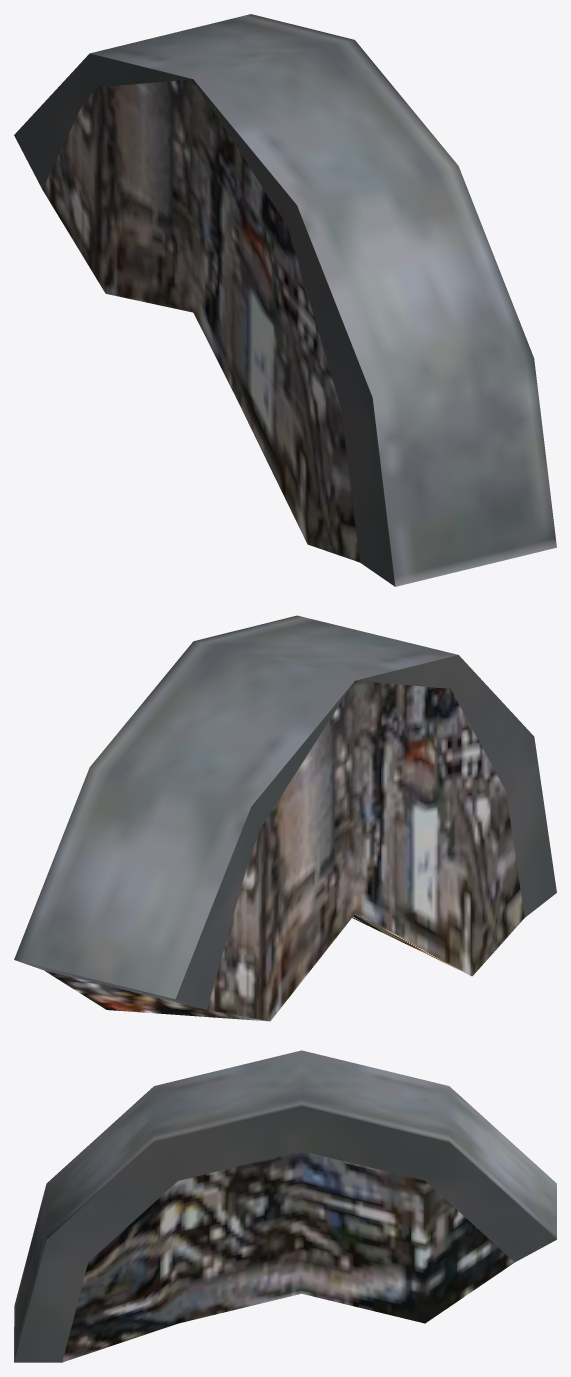
File: tie_fighter_debris_f_l0.fbx
3 renders of one model, top to bottom at view 1: azimuth 30°, elevation 25°; view 2: azimuth 150°, elevation 25°; view 3: azimuth 270°, elevation 25°, orthographic. The views are drawn at different scales.
Parts seen in each view (by area): view 1: mesh_node; view 2: mesh_node; view 3: mesh_node.
Part boxes in pixels (left/top/right/bottom): mesh_node: left=14, top=14, right=556, bottom=586; mesh_node: left=14, top=615, right=556, bottom=1021; mesh_node: left=14, top=1050, right=556, bottom=1362.
Size of the model in its own units: 0.157 by 0.3498 by 0.6364.
Materials: 1 (1 with a texture image).
